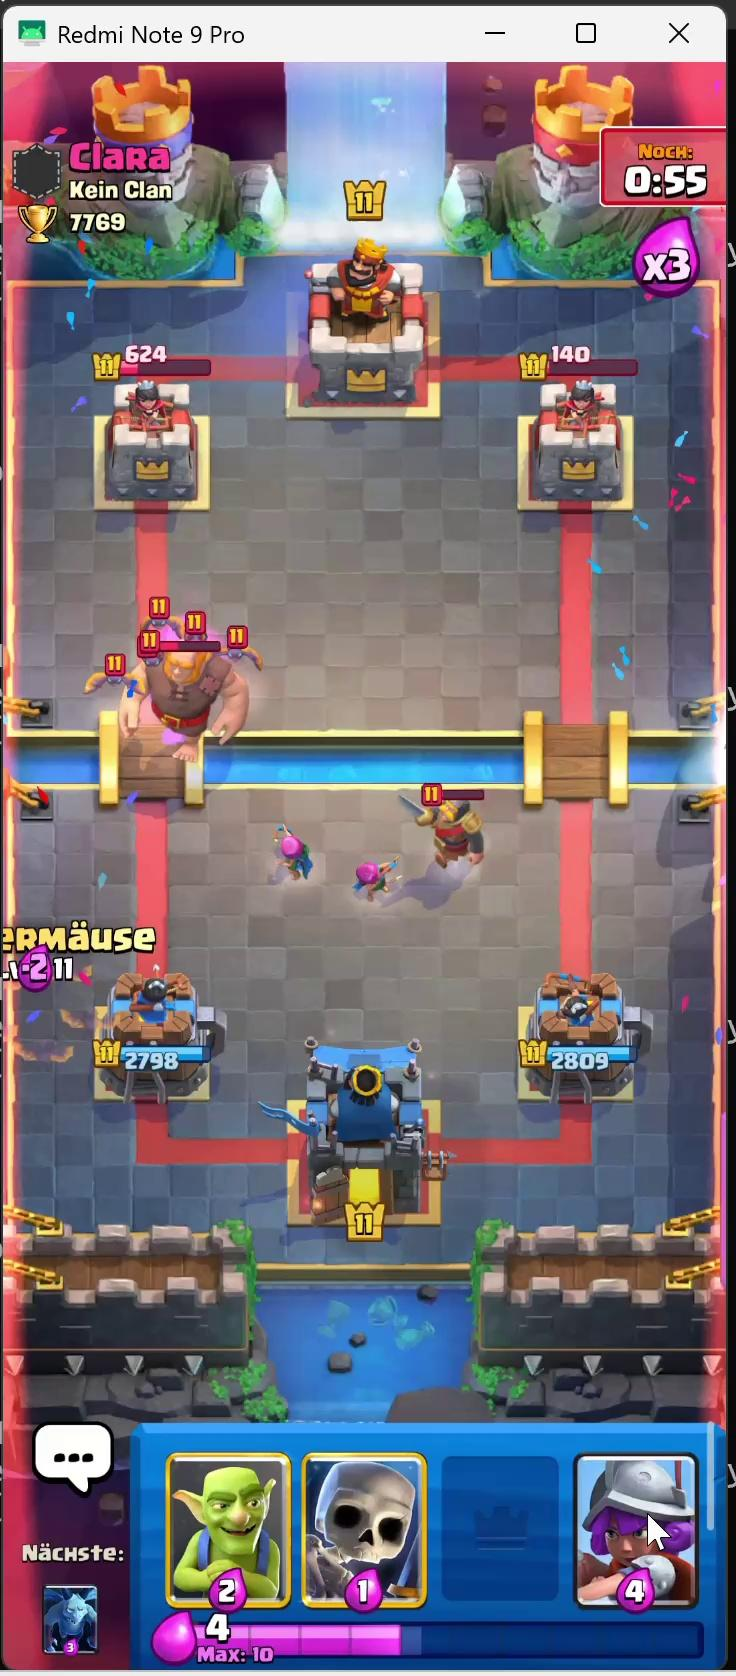archere: (351, 857, 400, 902), (275, 827, 312, 884)
bat: (223, 626, 256, 670), (99, 663, 137, 694), (134, 636, 166, 669), (186, 610, 210, 649), (148, 598, 170, 633)
chevalier: (409, 788, 484, 875)
geant: (127, 641, 238, 764)
